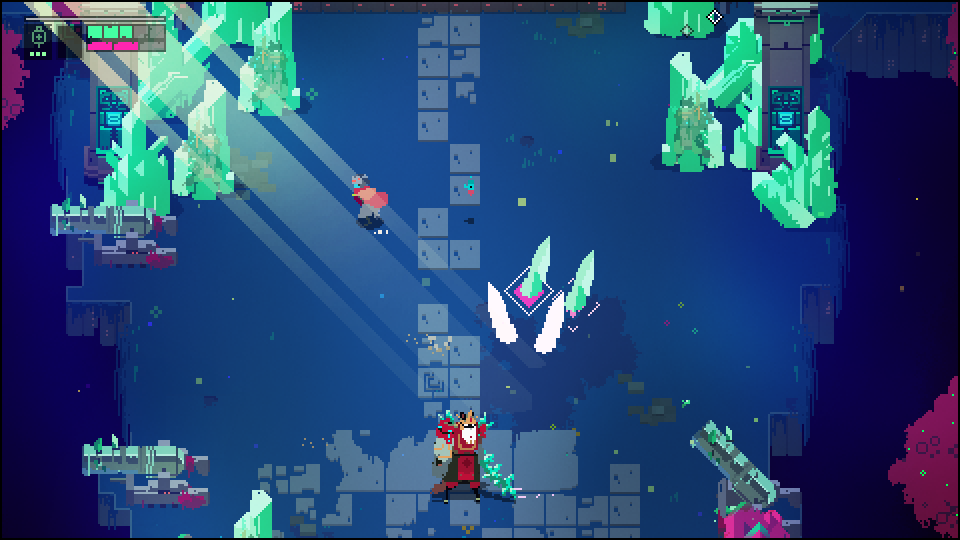hanged_crys: (561, 248, 596, 319), (482, 278, 517, 347), (518, 231, 553, 299)
hanged_man: (432, 406, 522, 506)
player: (348, 172, 390, 227)
